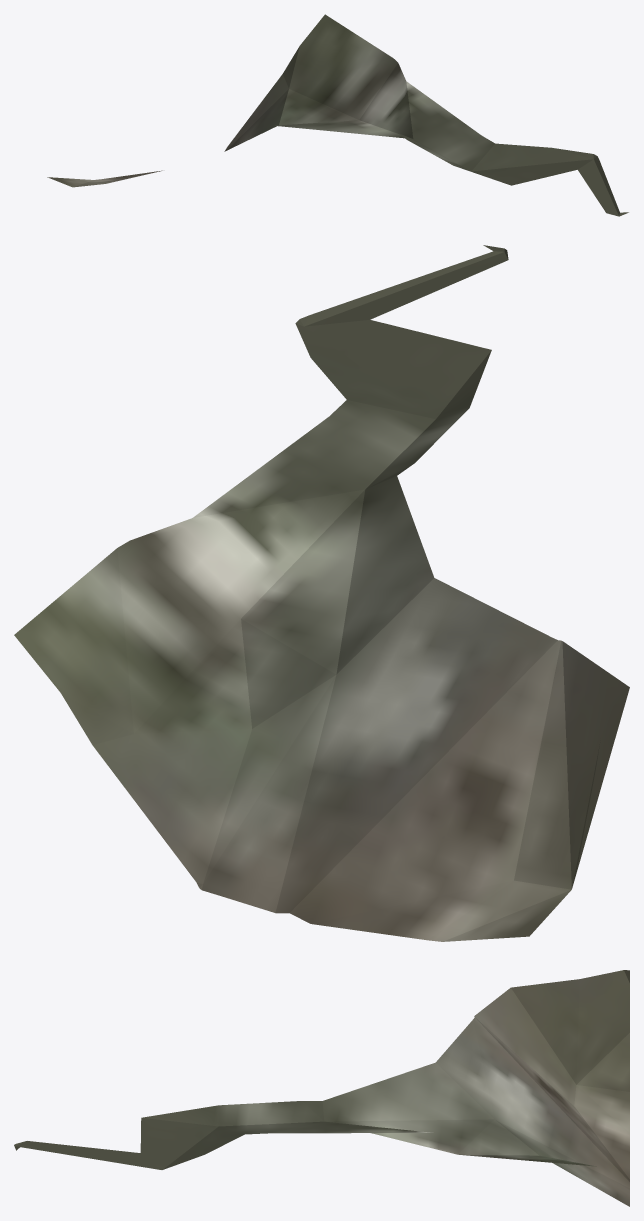
3 views of the same model, one above another, from view 1: azimuth 30°, elevation 25°; view 2: azimuth 150°, elevation 25°; view 3: azimuth 270°, elevation 25° (orthographic). The views are drawn at different scales.
Bounding box in the file's own units: 0.4908 × 0.1481 × 0.6431.
1 material, 1 textured.
